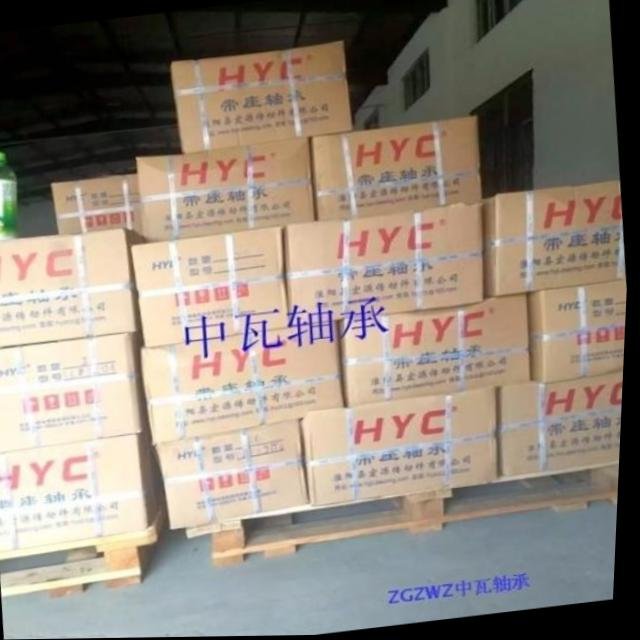box: (284, 203, 486, 328), (144, 321, 348, 444), (304, 387, 503, 506), (338, 293, 534, 410), (0, 422, 169, 552), (170, 41, 354, 154), (133, 225, 293, 348), (0, 326, 152, 453), (138, 137, 318, 242), (312, 117, 483, 222), (0, 228, 143, 347), (162, 420, 314, 530), (483, 182, 627, 297), (497, 372, 627, 477), (529, 281, 629, 384), (53, 174, 146, 243)
